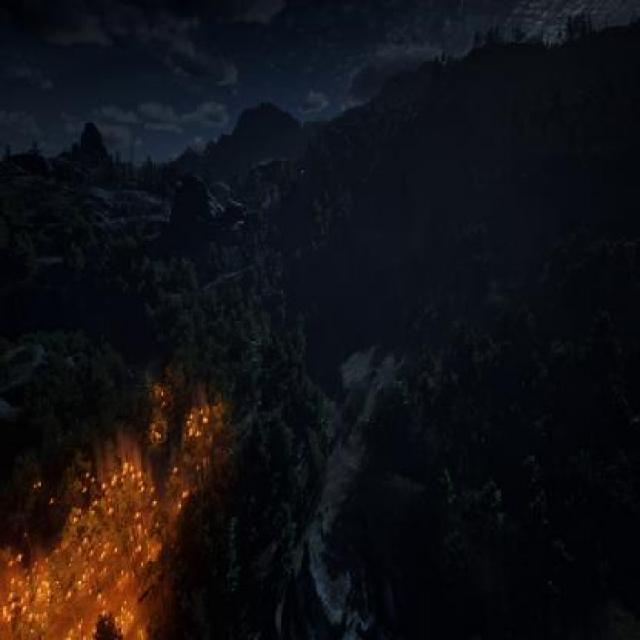Fire: (2, 365, 229, 640)
